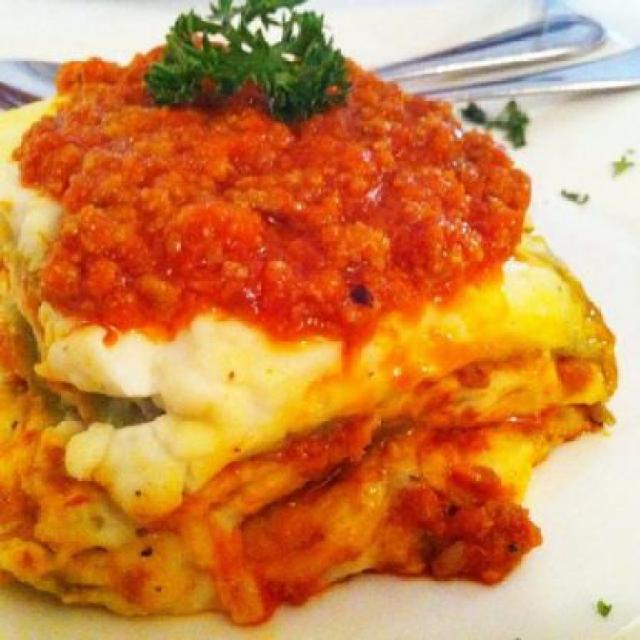Lasagna: (16, 27, 630, 606)
